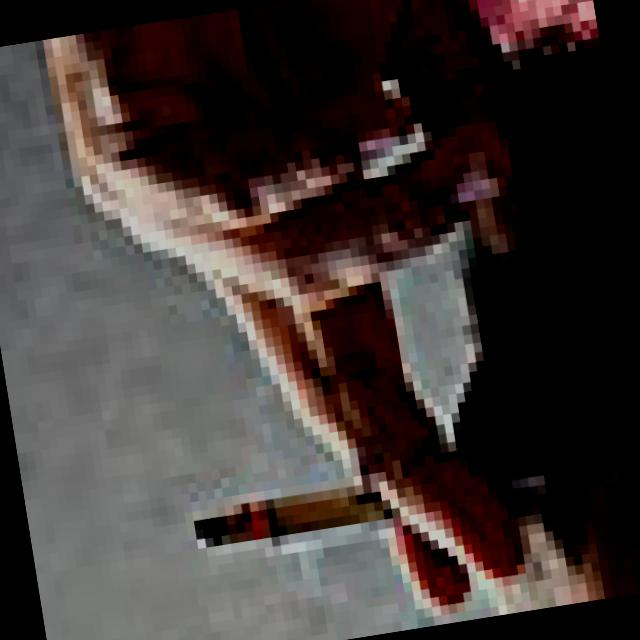smoke: (182, 435, 552, 620)
